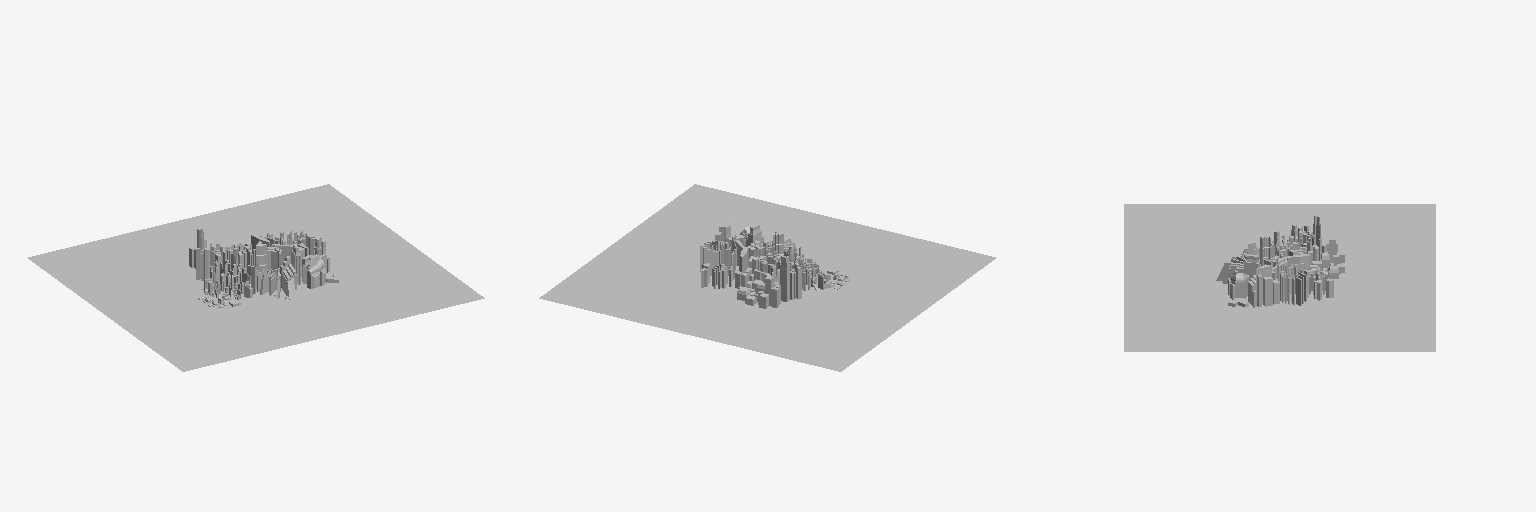
Rendered from city.obj.
3 renders of one model, left to right at view 1: azimuth 30°, elevation 25°; view 2: azimuth 150°, elevation 25°; view 3: azimuth 270°, elevation 25°, orthographic.
Bounding box in the file's own units: 3.38 × 0.475 × 3.03.